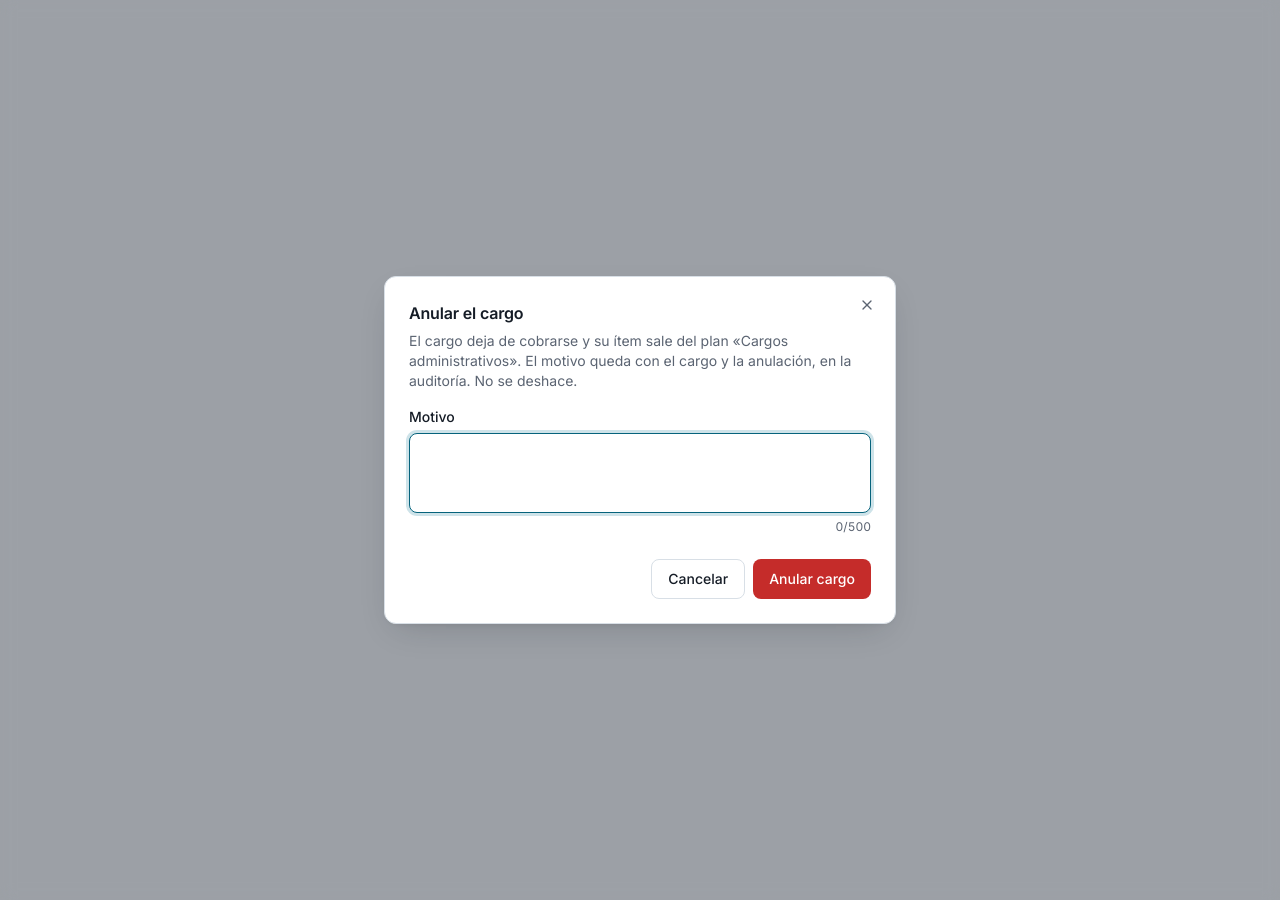
Test: VoidCancellationFeeModal — 409 del servidor (DX-382) › con abonos sin convertir, el mensaje del servidor sale legible en el aviso del formulario y no se reenvía
Later steps or results of the test are not shown.
Type " Cargo por error " into the text box labelled "Motivo" at (640, 473), box [409, 433, 871, 513]
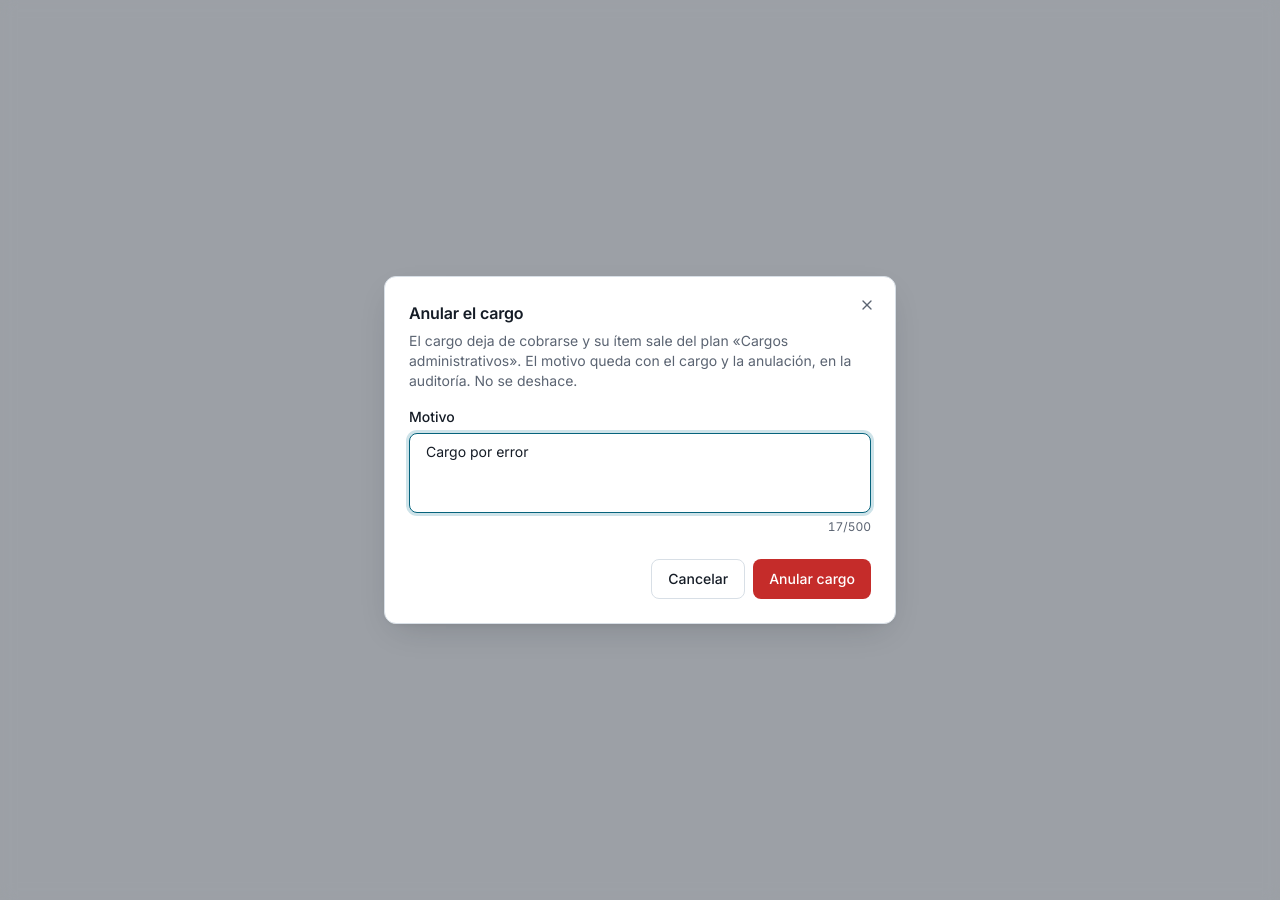
Click the button "Anular cargo" at (812, 579), box [753, 559, 871, 599]
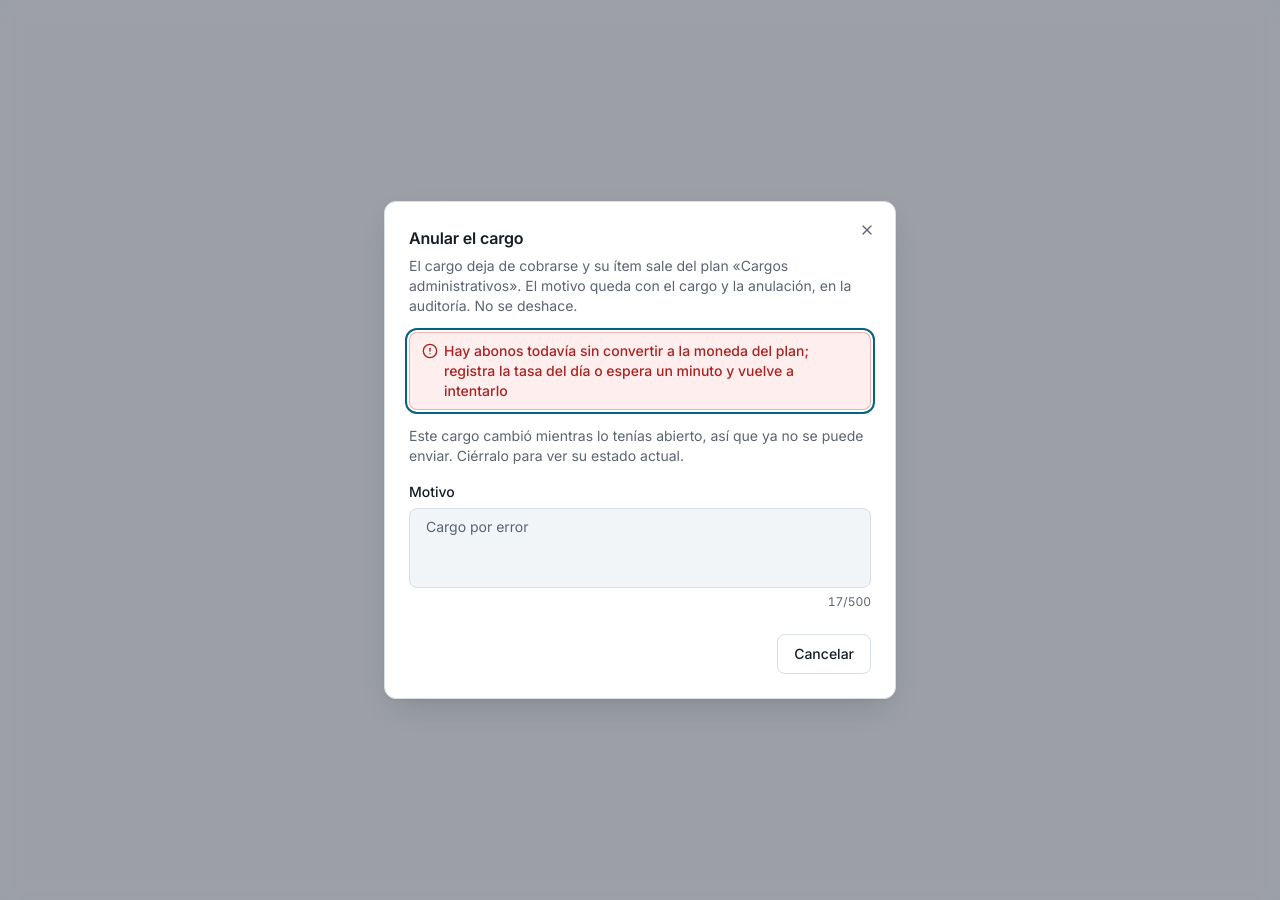
Check: the 1st message shows "Hay abonos todavía sin convertir a la moneda del plan; registra la tasa del día o espera un minuto y vuelve a intentarlo", box [444, 342, 809, 399]
Check: the button "Anular cargo" is gone
Check: the text box labelled "Motivo" is disabled, box [409, 508, 871, 588]
